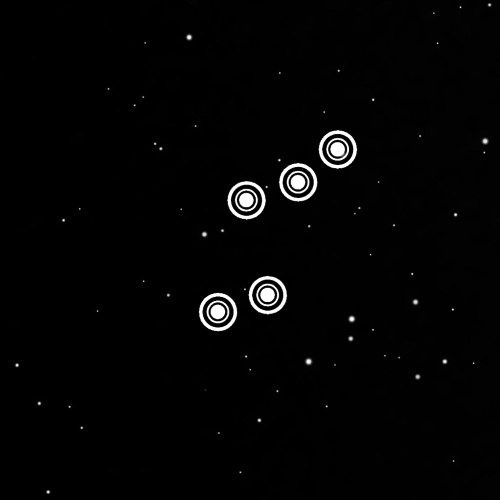lyra: (184, 115, 367, 343)
